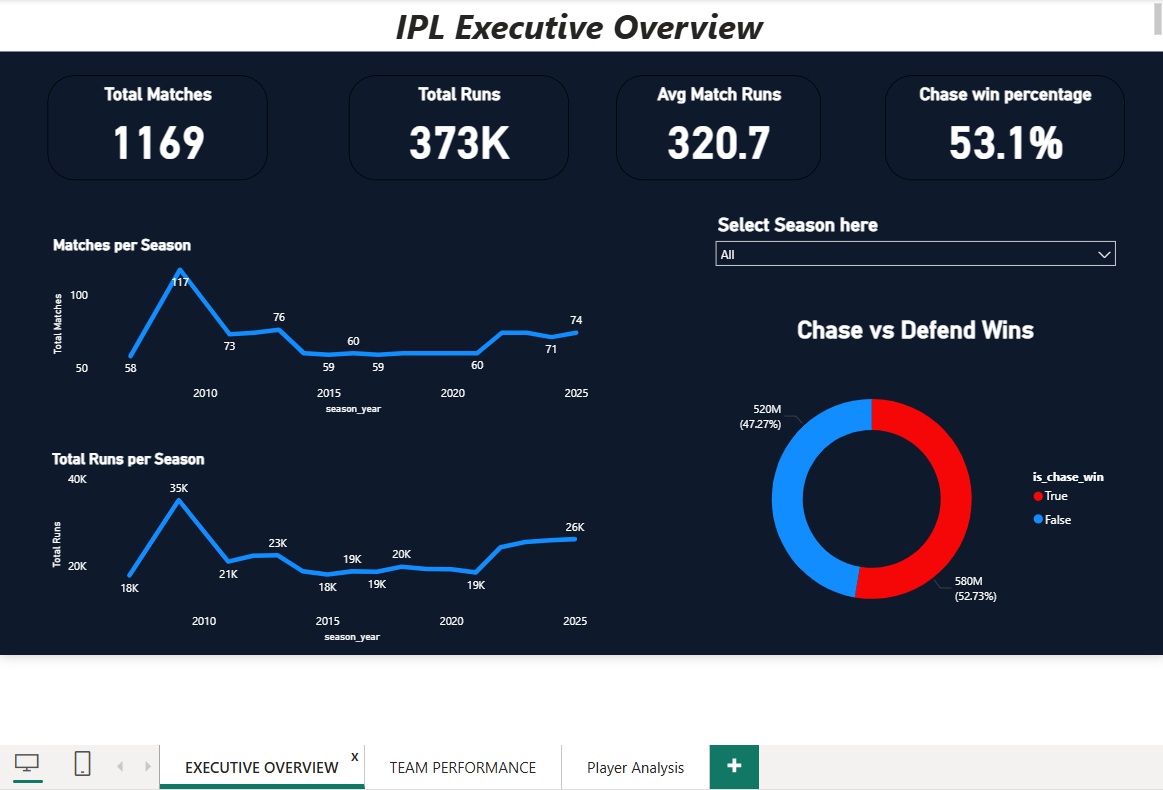

What the dashboard file says about the page in this screenshot:
{"tool":"powerbi","page":{"name":"EXECUTIVE OVERVIEW","canvas":[1280,720],"ordinal":0},"visuals":[{"type":"card","title":"Total Matches","fields":{"Values":["fact_match_summary.Total Matches"]},"box":[52.1,83.7,241.5,115.3],"z":0},{"type":"card","title":"Total Runs ","fields":{"Values":["fact_match_summary.Total Runs"]},"box":[382.8,83.7,241.5,115.3],"z":1000},{"type":"card","title":"Avg Match Runs","fields":{"Values":["fact_match_summary.Avg Match Runs"]},"box":[676.5,83.7,225,115.3],"z":2000},{"type":"card","title":"Chase win percentage","fields":{"Values":["fact_match_summary.Chase Win %"]},"box":[971.5,83.7,263.5,115.3],"z":3000},{"type":"lineChart","title":"Matches per Season","fields":{"Category":["fact_match_summary.season_year"],"Y":["fact_match_summary.Total Matches"]},"box":[53.5,259.3,624.4,201.7],"z":4000},{"type":"lineChart","title":"Total Runs per Season","fields":{"Category":["fact_match_summary.season_year"],"Y":["fact_match_summary.Total Runs"]},"box":[52.1,494,624.4,216.8],"z":5000},{"type":"donutChart","title":"Chase vs Defend Wins","fields":{"Category":["fact_match_summary.is_chase_win"],"Y":["Sum(fact_match_summary.match_id)"]},"box":[775.3,347.2,459.7,373.2],"z":6000},{"type":"textbox","box":[0,0,1280.3,57.6],"z":7000},{"type":"slicer","fields":{"Values":["fact_match_summary.season_year"]},"box":[775.3,230.5,459.7,87.8],"z":8000}]}

Visuals, with their boxes on the page's 1280x720 design canvas (x1, y1, x2, y2). These are canvas units, not pixel positions in the 1163x790 screenshot, which may show the page scaled, cropped or inside an application window:
"Total Matches" card: detection(52, 84, 294, 199)
"Total Runs " card: detection(383, 84, 624, 199)
"Avg Match Runs" card: detection(676, 84, 902, 199)
"Chase win percentage" card: detection(972, 84, 1235, 199)
"Matches per Season" lineChart: detection(54, 259, 678, 461)
"Total Runs per Season" lineChart: detection(52, 494, 676, 711)
"Chase vs Defend Wins" donutChart: detection(775, 347, 1235, 720)
textbox: detection(0, 0, 1280, 58)
slicer - fact_match_summary.season_year: detection(775, 230, 1235, 318)
